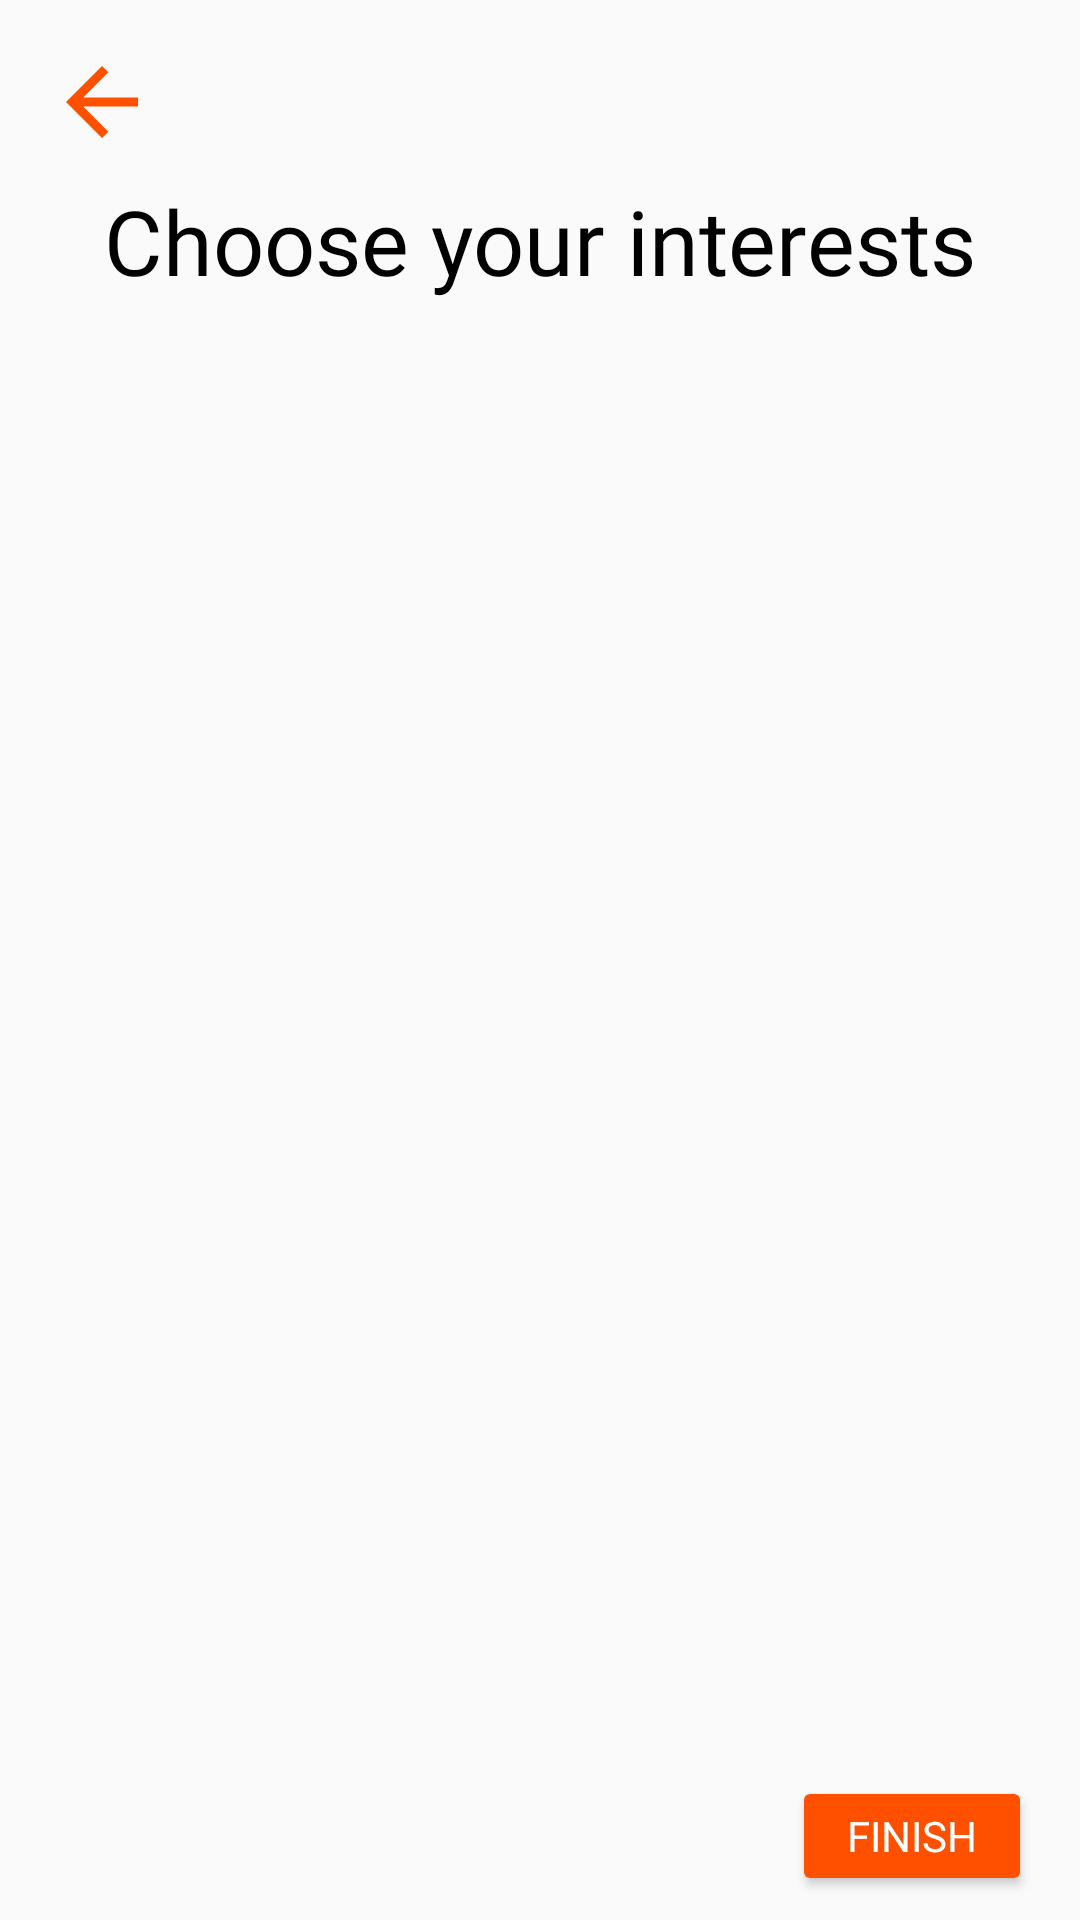

Icons on this 1080w x 1920h Android screen, each with its box as (x1, y1, x2, y2):
arrow back: (66, 66, 138, 138)
